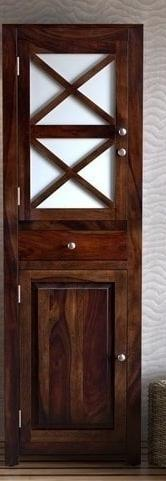door: (0, 24, 143, 467)
